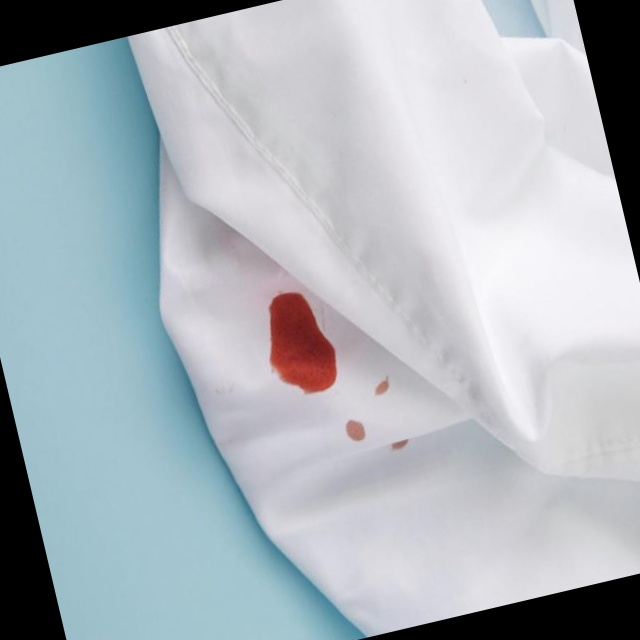blood: (249, 277, 350, 402), (330, 371, 416, 466)
